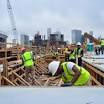hard hat: (47, 60, 59, 74), (76, 42, 81, 45)
high-vis: (62, 60, 90, 87), (21, 50, 34, 65), (74, 48, 83, 58), (68, 49, 75, 58)
